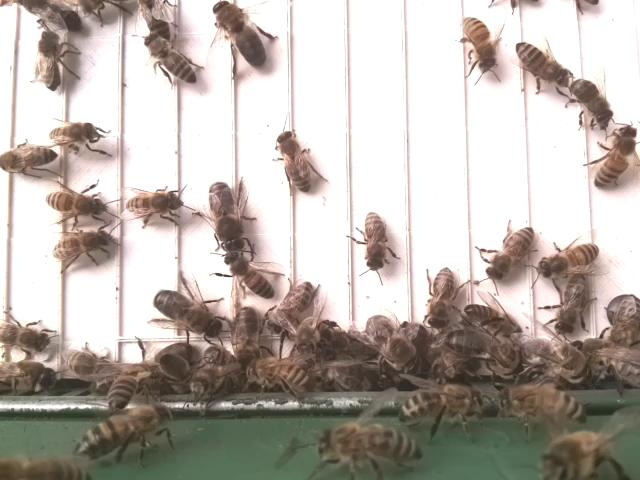Drone: (208, 0, 268, 71), (151, 287, 225, 341), (205, 180, 250, 254)
Worker: (142, 31, 201, 86), (483, 225, 538, 283), (593, 126, 638, 192), (269, 276, 317, 333), (277, 127, 316, 195), (458, 12, 499, 76), (551, 272, 590, 337), (224, 250, 274, 300), (569, 75, 614, 127), (514, 37, 564, 83), (536, 242, 605, 275), (44, 187, 109, 222), (360, 206, 392, 276), (425, 267, 460, 330), (50, 229, 116, 261), (128, 187, 186, 222), (0, 144, 59, 175), (36, 29, 63, 93), (46, 119, 101, 150), (374, 252, 374, 253)
